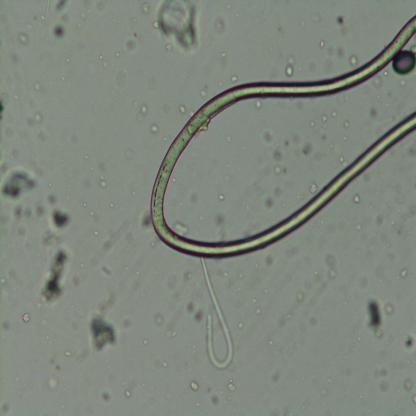Air bubble: (391, 48, 416, 75)
Background material: (155, 0, 202, 54), (38, 245, 70, 305), (8, 197, 53, 227), (2, 165, 38, 199), (367, 295, 393, 336), (90, 312, 118, 350), (13, 105, 42, 128), (179, 297, 205, 321), (50, 207, 70, 233), (261, 186, 281, 209), (212, 202, 225, 237), (323, 252, 338, 280), (210, 12, 226, 38), (122, 31, 140, 53), (378, 367, 392, 394), (99, 382, 114, 405), (272, 150, 284, 178), (402, 331, 416, 354), (102, 260, 116, 281), (218, 379, 236, 395), (207, 390, 221, 410), (137, 208, 150, 229), (170, 98, 186, 115), (0, 90, 10, 117), (52, 22, 67, 40), (402, 377, 416, 396), (302, 132, 312, 157), (174, 222, 190, 237), (150, 312, 168, 325), (286, 54, 296, 77), (188, 187, 200, 206), (16, 32, 31, 46), (252, 96, 266, 111), (148, 123, 163, 137), (121, 145, 134, 161), (0, 318, 12, 335), (81, 3, 91, 23), (46, 377, 60, 391), (54, 0, 68, 13), (374, 74, 384, 92), (122, 383, 133, 399), (188, 379, 200, 393), (138, 102, 149, 117), (139, 2, 150, 16), (213, 188, 224, 202), (72, 272, 81, 289), (400, 265, 410, 280), (78, 150, 90, 162), (368, 104, 378, 118), (296, 289, 306, 303), (349, 54, 358, 69), (165, 330, 177, 341), (103, 237, 113, 250), (230, 72, 240, 85), (253, 304, 263, 316), (380, 67, 390, 79), (264, 132, 274, 144), (340, 118, 352, 128), (317, 38, 327, 50), (320, 128, 328, 142), (219, 49, 229, 60), (309, 184, 319, 195), (353, 192, 362, 204), (0, 275, 8, 288), (62, 350, 72, 360), (336, 16, 345, 27), (23, 314, 31, 326), (36, 76, 42, 91), (100, 174, 106, 188), (320, 113, 329, 122), (40, 11, 48, 21), (222, 2, 232, 10), (44, 0, 50, 13), (331, 106, 338, 117), (112, 52, 121, 60), (226, 132, 232, 144), (268, 338, 275, 347), (235, 321, 242, 330), (402, 76, 408, 86), (142, 336, 148, 346), (92, 230, 98, 240), (358, 226, 364, 236), (327, 141, 335, 148), (161, 361, 169, 368), (88, 211, 96, 218), (108, 199, 114, 208), (238, 272, 244, 280), (342, 134, 348, 142), (343, 157, 347, 169), (61, 74, 66, 83), (202, 88, 206, 99), (89, 164, 95, 171), (125, 264, 130, 272), (310, 119, 314, 128), (252, 300, 258, 304), (104, 60, 107, 68), (136, 270, 140, 275), (81, 203, 87, 206), (80, 263, 84, 267), (100, 54, 102, 60)
Glass filter fibre: (200, 258, 236, 370)
Microfibre: (148, 16, 416, 261)
